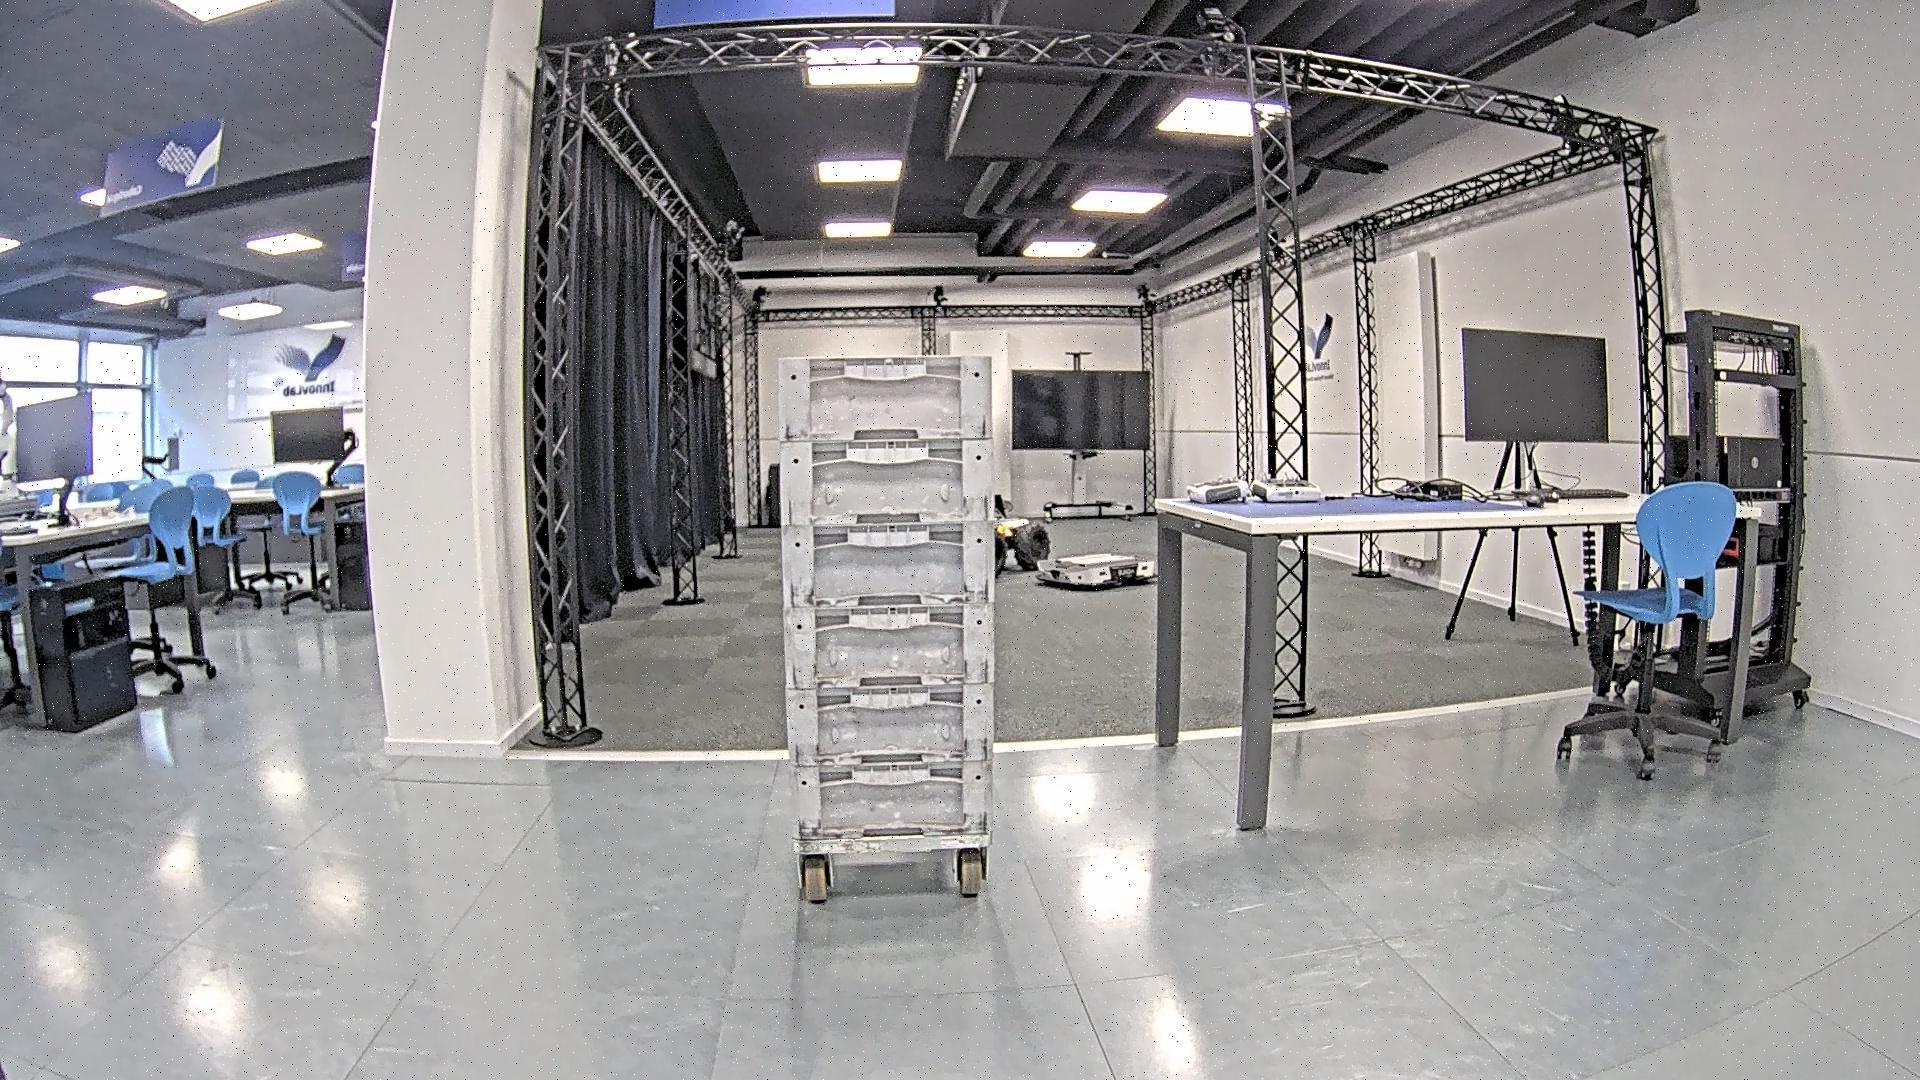Box3G: (775, 353, 997, 847)
